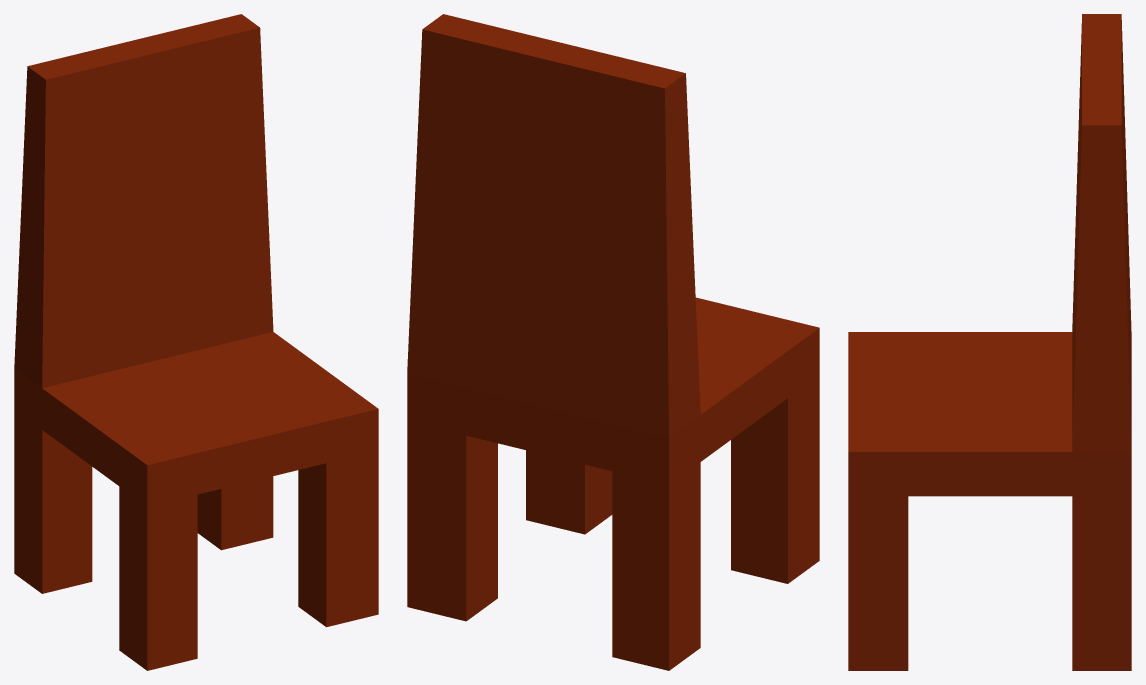
The model's file is chair.fbx.
3 renders of one model, left to right at view 1: azimuth 30°, elevation 25°; view 2: azimuth 150°, elevation 25°; view 3: azimuth 270°, elevation 25°, orthographic. The views are drawn at different scales.
Parts seen in each view (by area): view 1: Chair; view 2: Chair; view 3: Chair.
Part boxes in pixels (<box>): Chair: <box>14,14,378,670</box>; Chair: <box>407,14,819,670</box>; Chair: <box>848,14,1131,670</box>.
Bounding box in the file's own units: 69 × 145 × 68.73.
